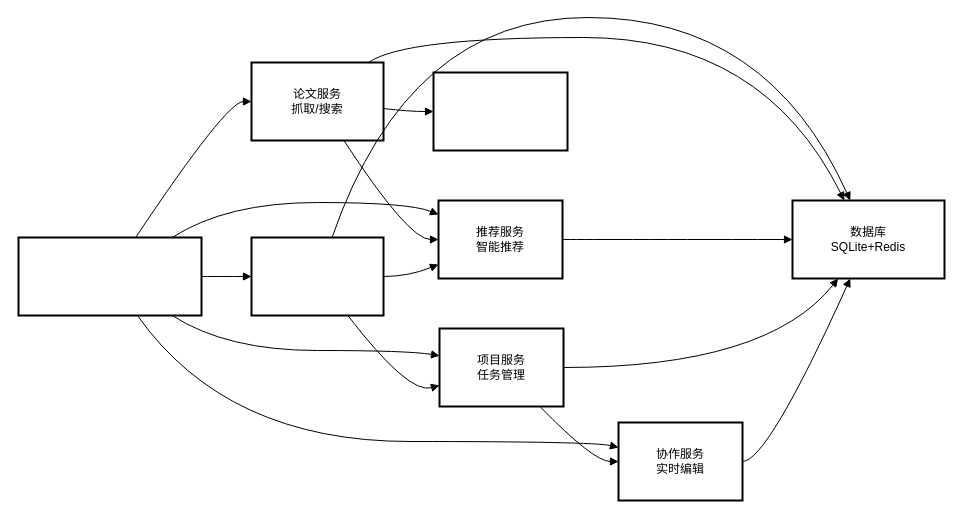
The diagram is 962 pixels wide and 519 high, and some of its shapes have lost their labels. The shapes that lost their labels are listed below. From the top down, each one's box as (x1, y1, x2, y2) in pixels, then its label:
(432, 71, 568, 151): 外部API IEEE/arXiv
(17, 236, 202, 316): 前端界面 React+TypeScript
(250, 236, 384, 316): 用户服务 认证/权限
